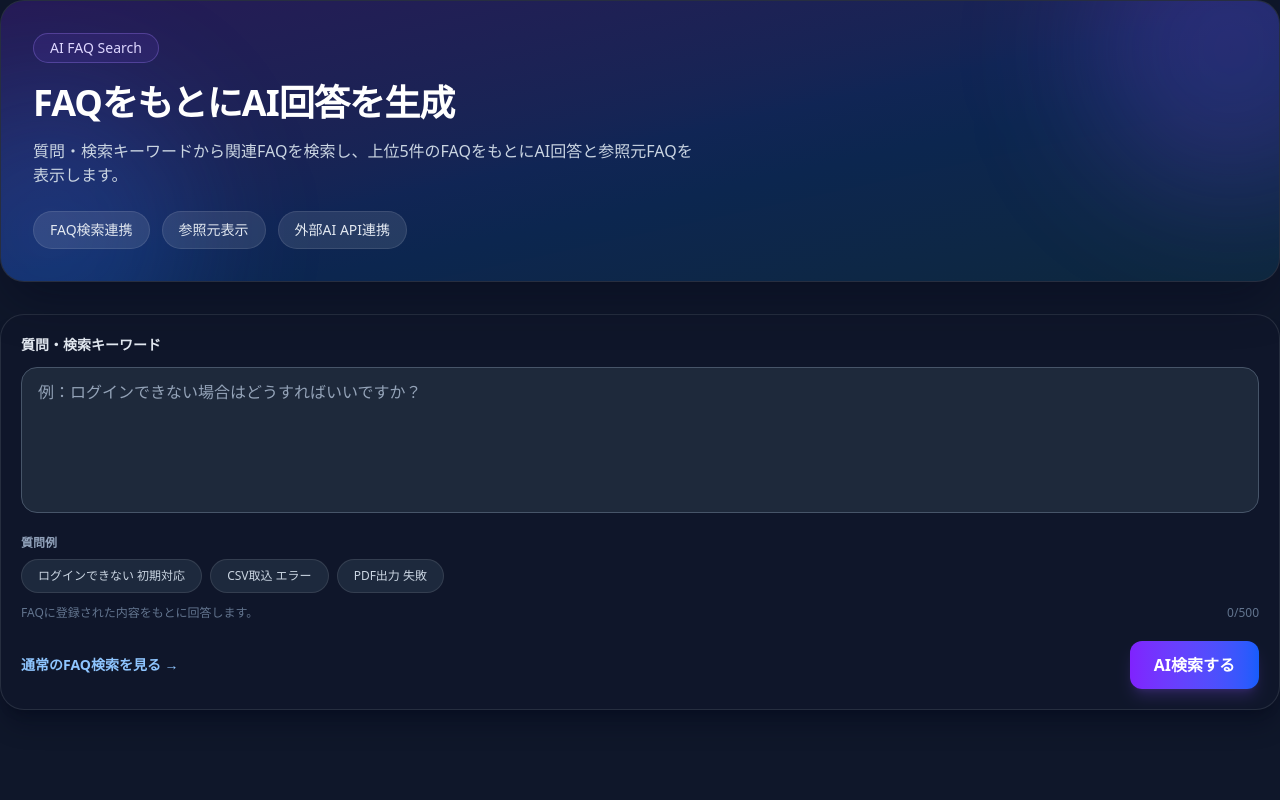
AiSearchPage › 質問を入力してAI検索するとsearchAiを呼び、結果を表示する
Type "ログインできない場合は？" into the text box with placeholder "例：ログインできない場合はどうすればいいですか？" at (640,440), box [21,367,1259,513]
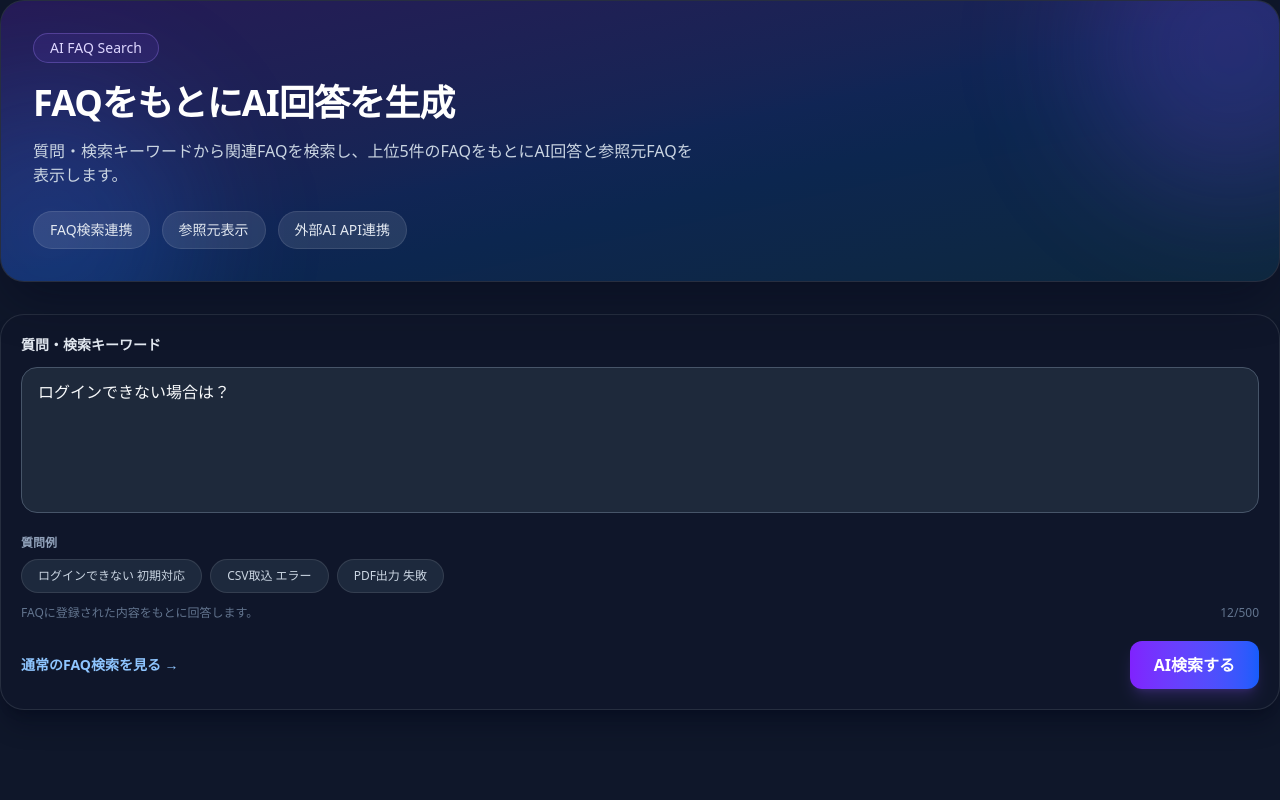
Click the button "AI検索する" at (1194,665), box [1130,641,1259,689]
(page scrolled)
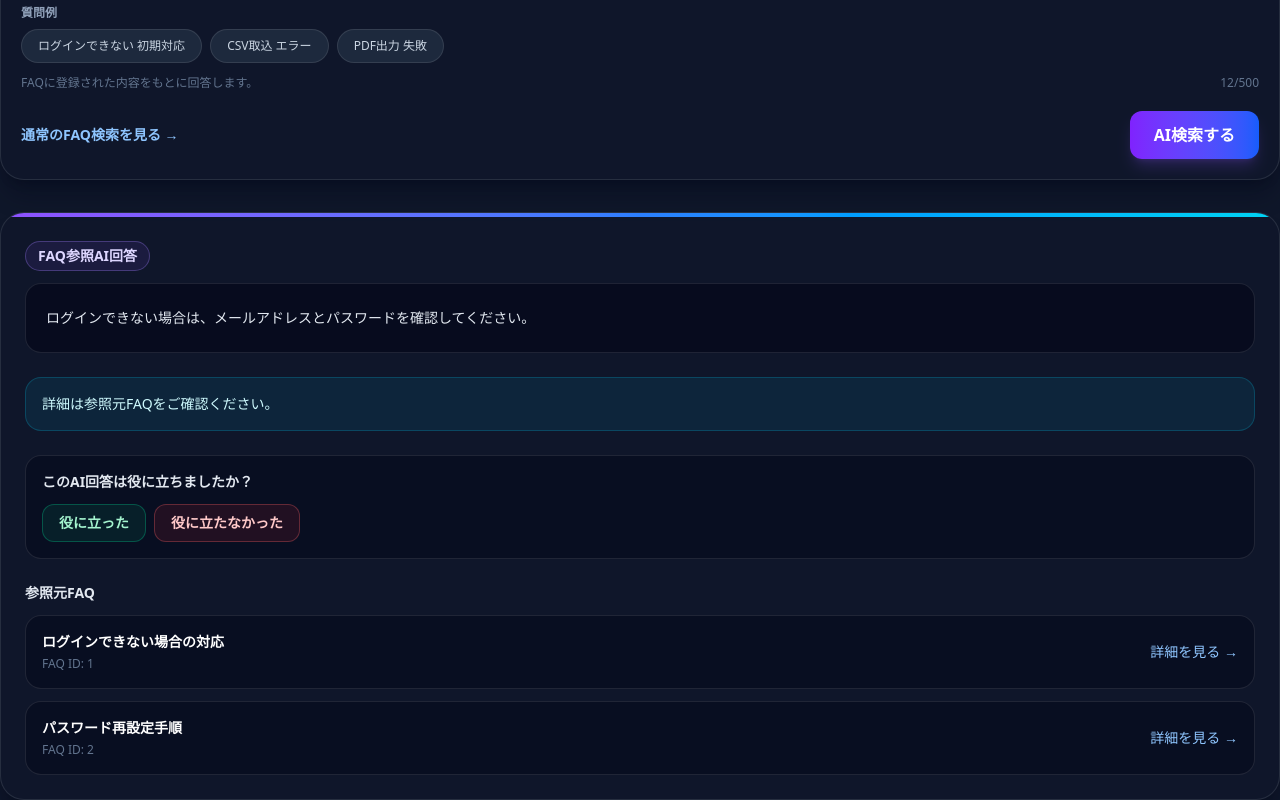
Expected: the text "ログインできない場合は、メールアドレスとパスワードを確認してください。" is shown, [25,283,1255,353]
Expected: the text "詳細は参照元FAQをご確認ください。" is shown, [25,377,1255,431]
Expected: the text "ログインできない場合の対応" is shown, [42,632,224,652]
